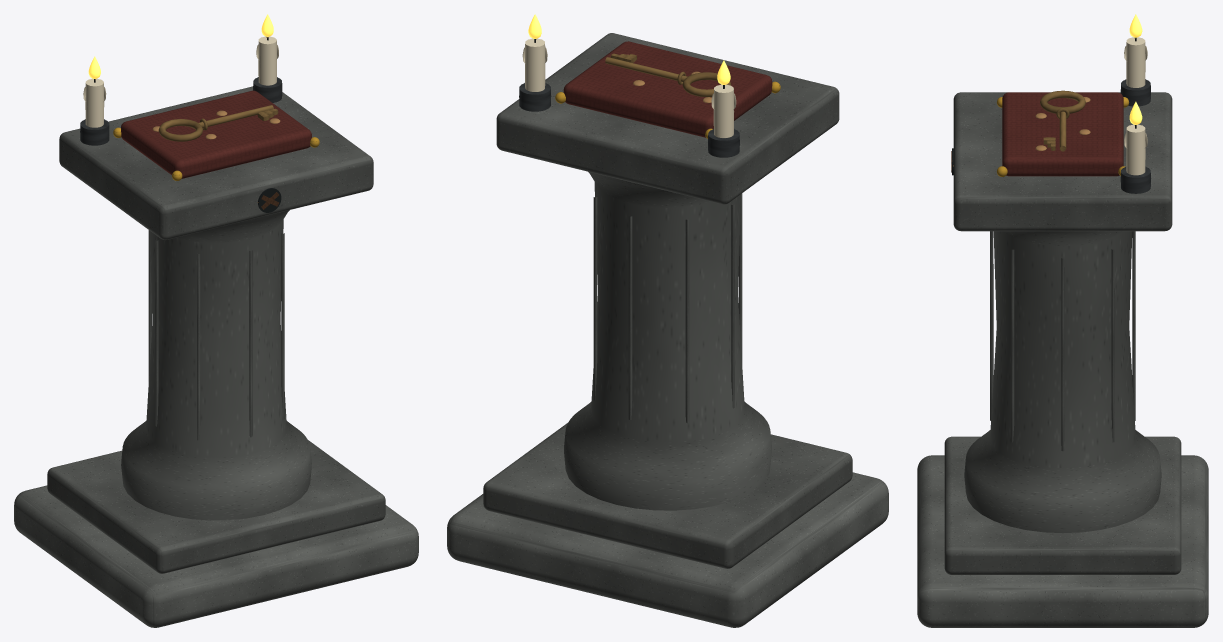
3 renders of one model, left to right at view 1: azimuth 30°, elevation 25°; view 2: azimuth 150°, elevation 25°; view 3: azimuth 270°, elevation 25°, orthographic. The views are drawn at different scales.
Parts seen in each view (by area): view 1: dressed stone, tooled stone trim, velvet cushion, tallow wax, aged brass fittings, forged iron; view 2: dressed stone, tooled stone trim, velvet cushion, tallow wax, forged iron, aged brass fittings; view 3: dressed stone, tooled stone trim, velvet cushion, tallow wax, forged iron, aged brass fittings, lamp flame.
Part boxes in pixels (<box>): dressed stone: <box>14,210,418,627</box>; tooled stone trim: <box>47,86,385,573</box>; velvet cushion: <box>121,90,311,178</box>; tallow wax: <box>83,36,278,127</box>; aged brass fittings: <box>158,105,278,141</box>; forged iron: <box>80,77,282,145</box>; dressed stone: <box>447,171,888,627</box>; tooled stone trim: <box>483,33,852,568</box>; velvet cushion: <box>563,41,772,137</box>; tallow wax: <box>522,38,736,137</box>; forged iron: <box>519,83,739,157</box>; aged brass fittings: <box>605,53,731,96</box>; dressed stone: <box>917,231,1208,627</box>; tooled stone trim: <box>944,92,1181,574</box>; velvet cushion: <box>1002,92,1123,176</box>; tallow wax: <box>1124,37,1147,175</box>; forged iron: <box>1120,79,1150,193</box>; aged brass fittings: <box>1040,90,1085,151</box>; lamp flame: <box>1129,14,1142,124</box>.
Size of the model in its own units: 0.54 by 0.9192 by 0.48.
Materials: 11 (7 with a texture image).
